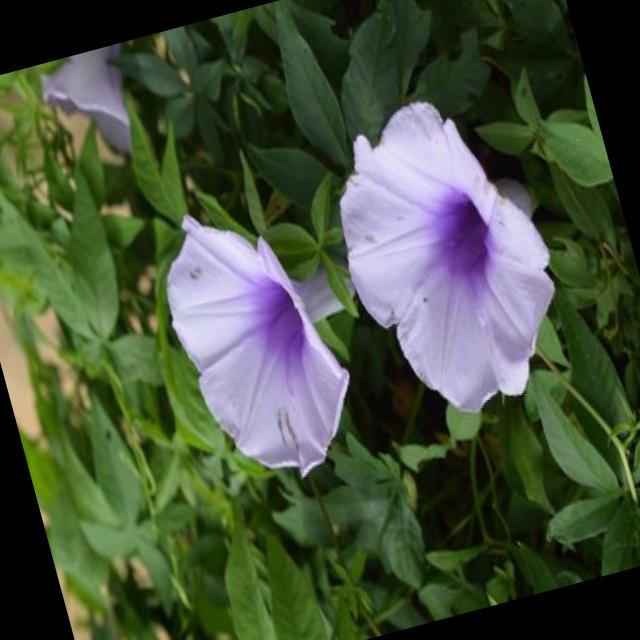ipomoea: (306, 72, 588, 440), (140, 173, 397, 504)
